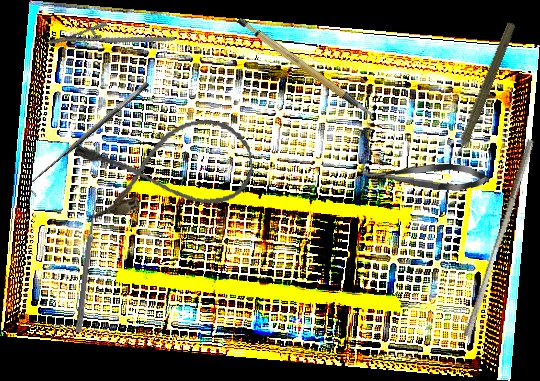Cannula: (74, 113, 258, 224)
Handpiece: (444, 19, 519, 170)
Hook Surgical: (20, 79, 158, 199)
Micro Scissor: (358, 159, 490, 193)
Needle Holder: (46, 0, 176, 82)
Pusher: (462, 136, 536, 340)
Scalpel Handle: (234, 0, 375, 138)
Surgical Spoon: (75, 192, 100, 333)
